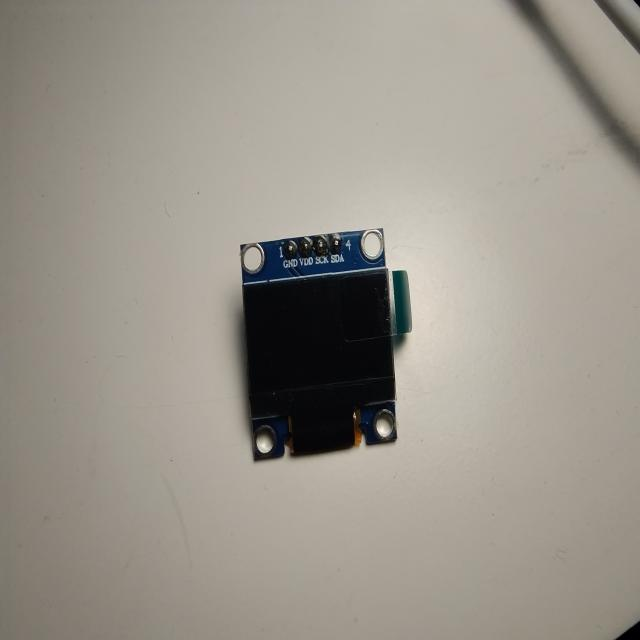oled: (236, 220, 416, 464)
